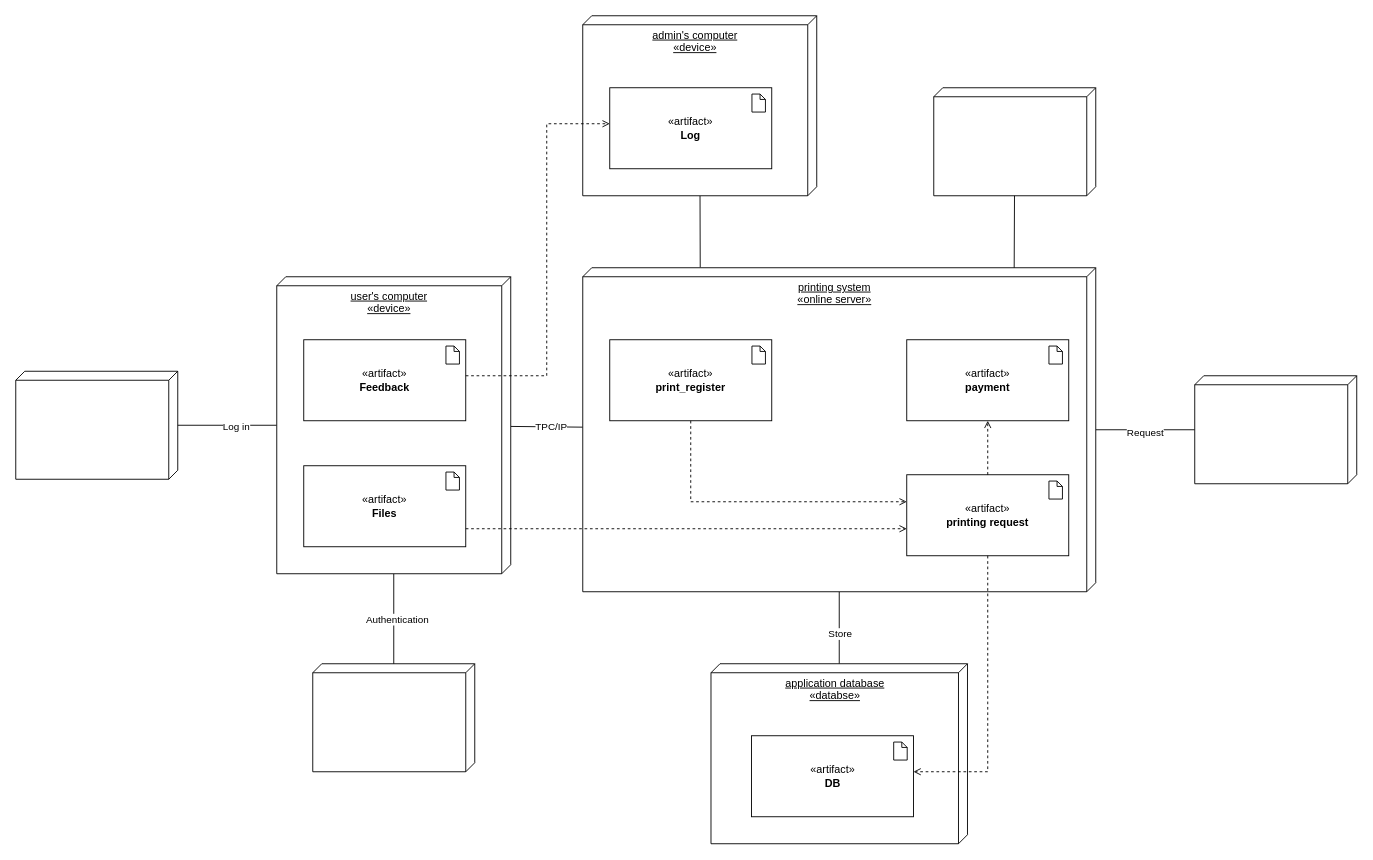
The diagram is 1373 pixels wide and 860 high, and some of its shapes have lost their labels. Here are the shapes that lost their labels. From the top down, the centre of each, then its label:
At pixel 1014 141: "payment service «online service»".
At pixel 96 424: "hcmut system «online server»".
At pixel 1275 429: "printer «device»".
At pixel 393 717: "authentication service «online service»".
